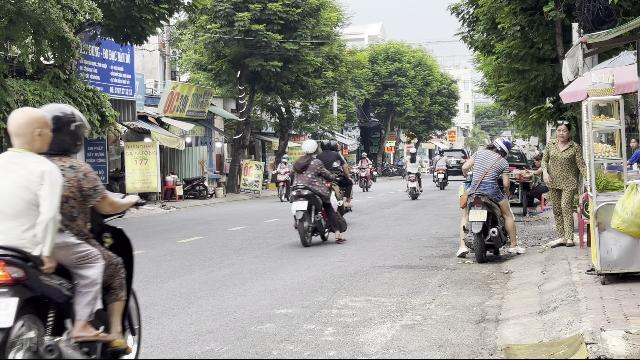helmet: (41, 102, 91, 160), (488, 136, 512, 158), (300, 139, 318, 155)
licenseplate: (469, 210, 487, 221), (292, 201, 308, 211)
motorcyclist: (0, 102, 150, 356), (454, 130, 520, 262), (288, 138, 350, 246)
nohelmet: (5, 106, 53, 154)
